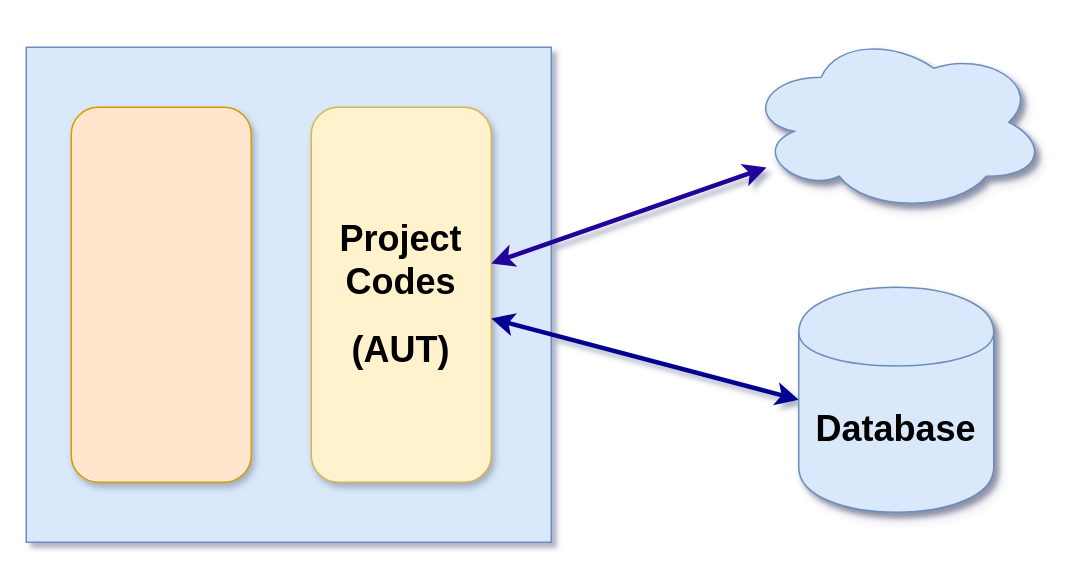
Image size: 1091x578. Some labels were removed from this diagram. Each missing label, with the centre of its shape:
"Unit Tests" goes at point (162, 296).
"Web Service" goes at point (897, 124).
